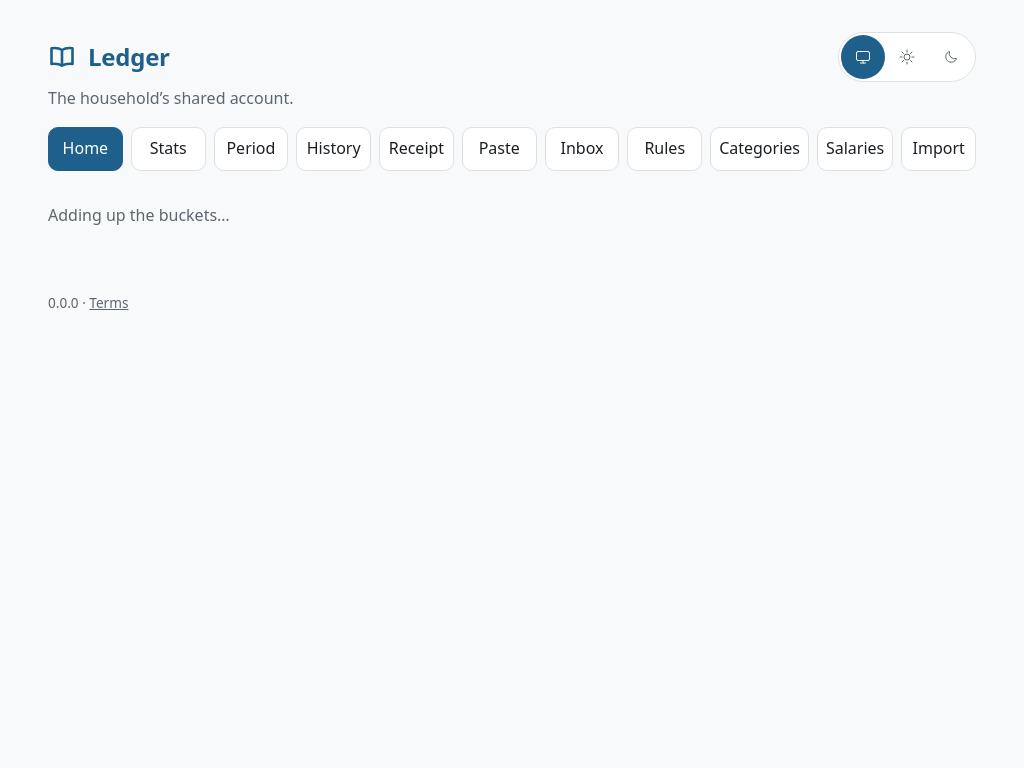
Test: the categories tab shows the spending categories screen
This screenshot has width=1024, height=768.
Click the button "Categories". click: (760, 149)
box: [710,127,809,171]
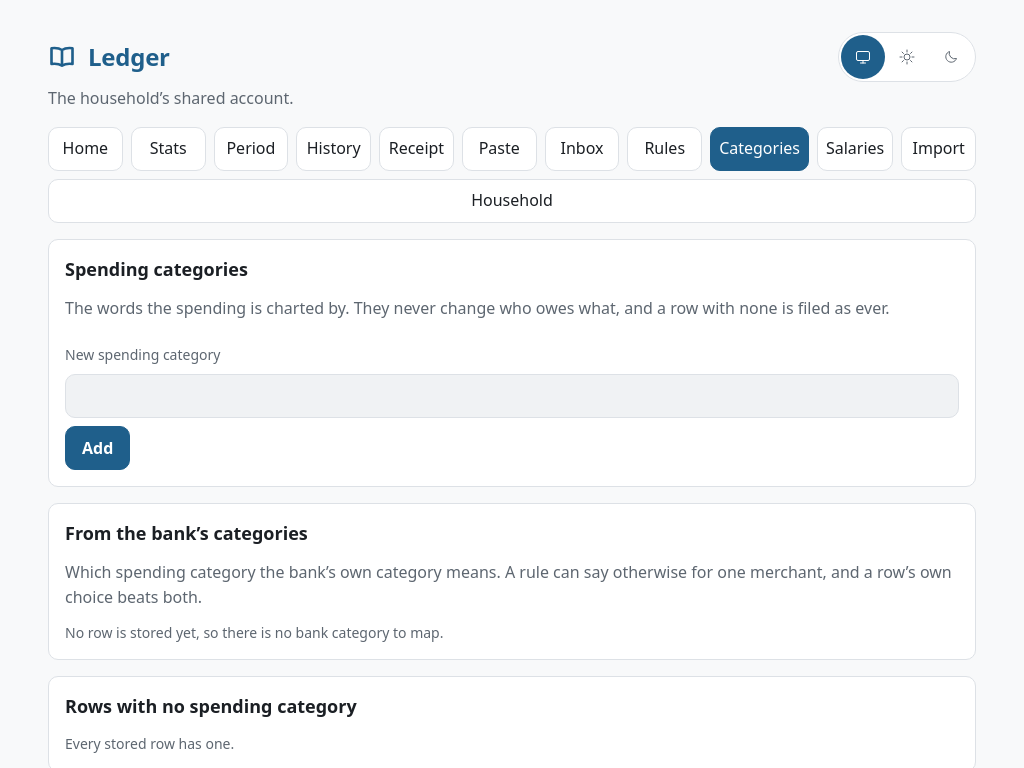
Expected: the heading "Spending categories" is shown, [65,257,248,281]
